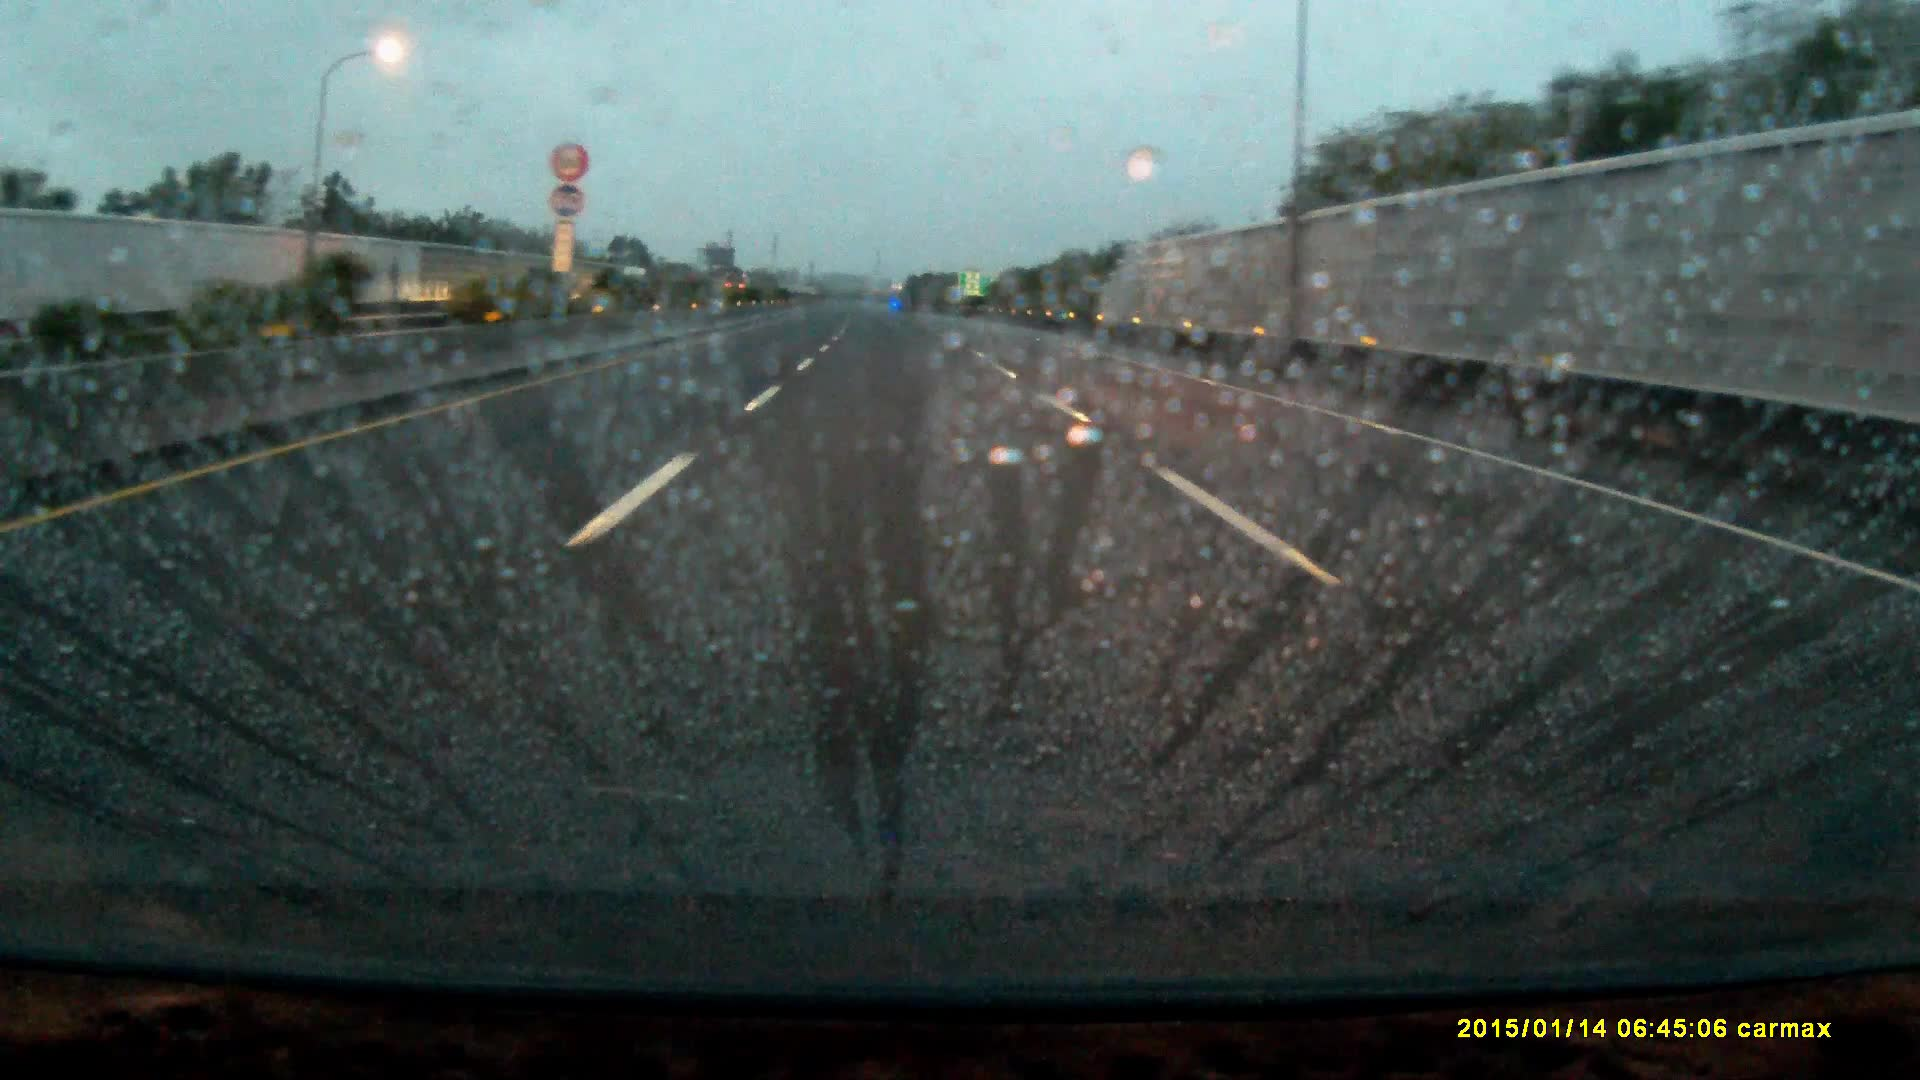vehicle: (621, 269, 654, 303), (724, 284, 756, 309)
